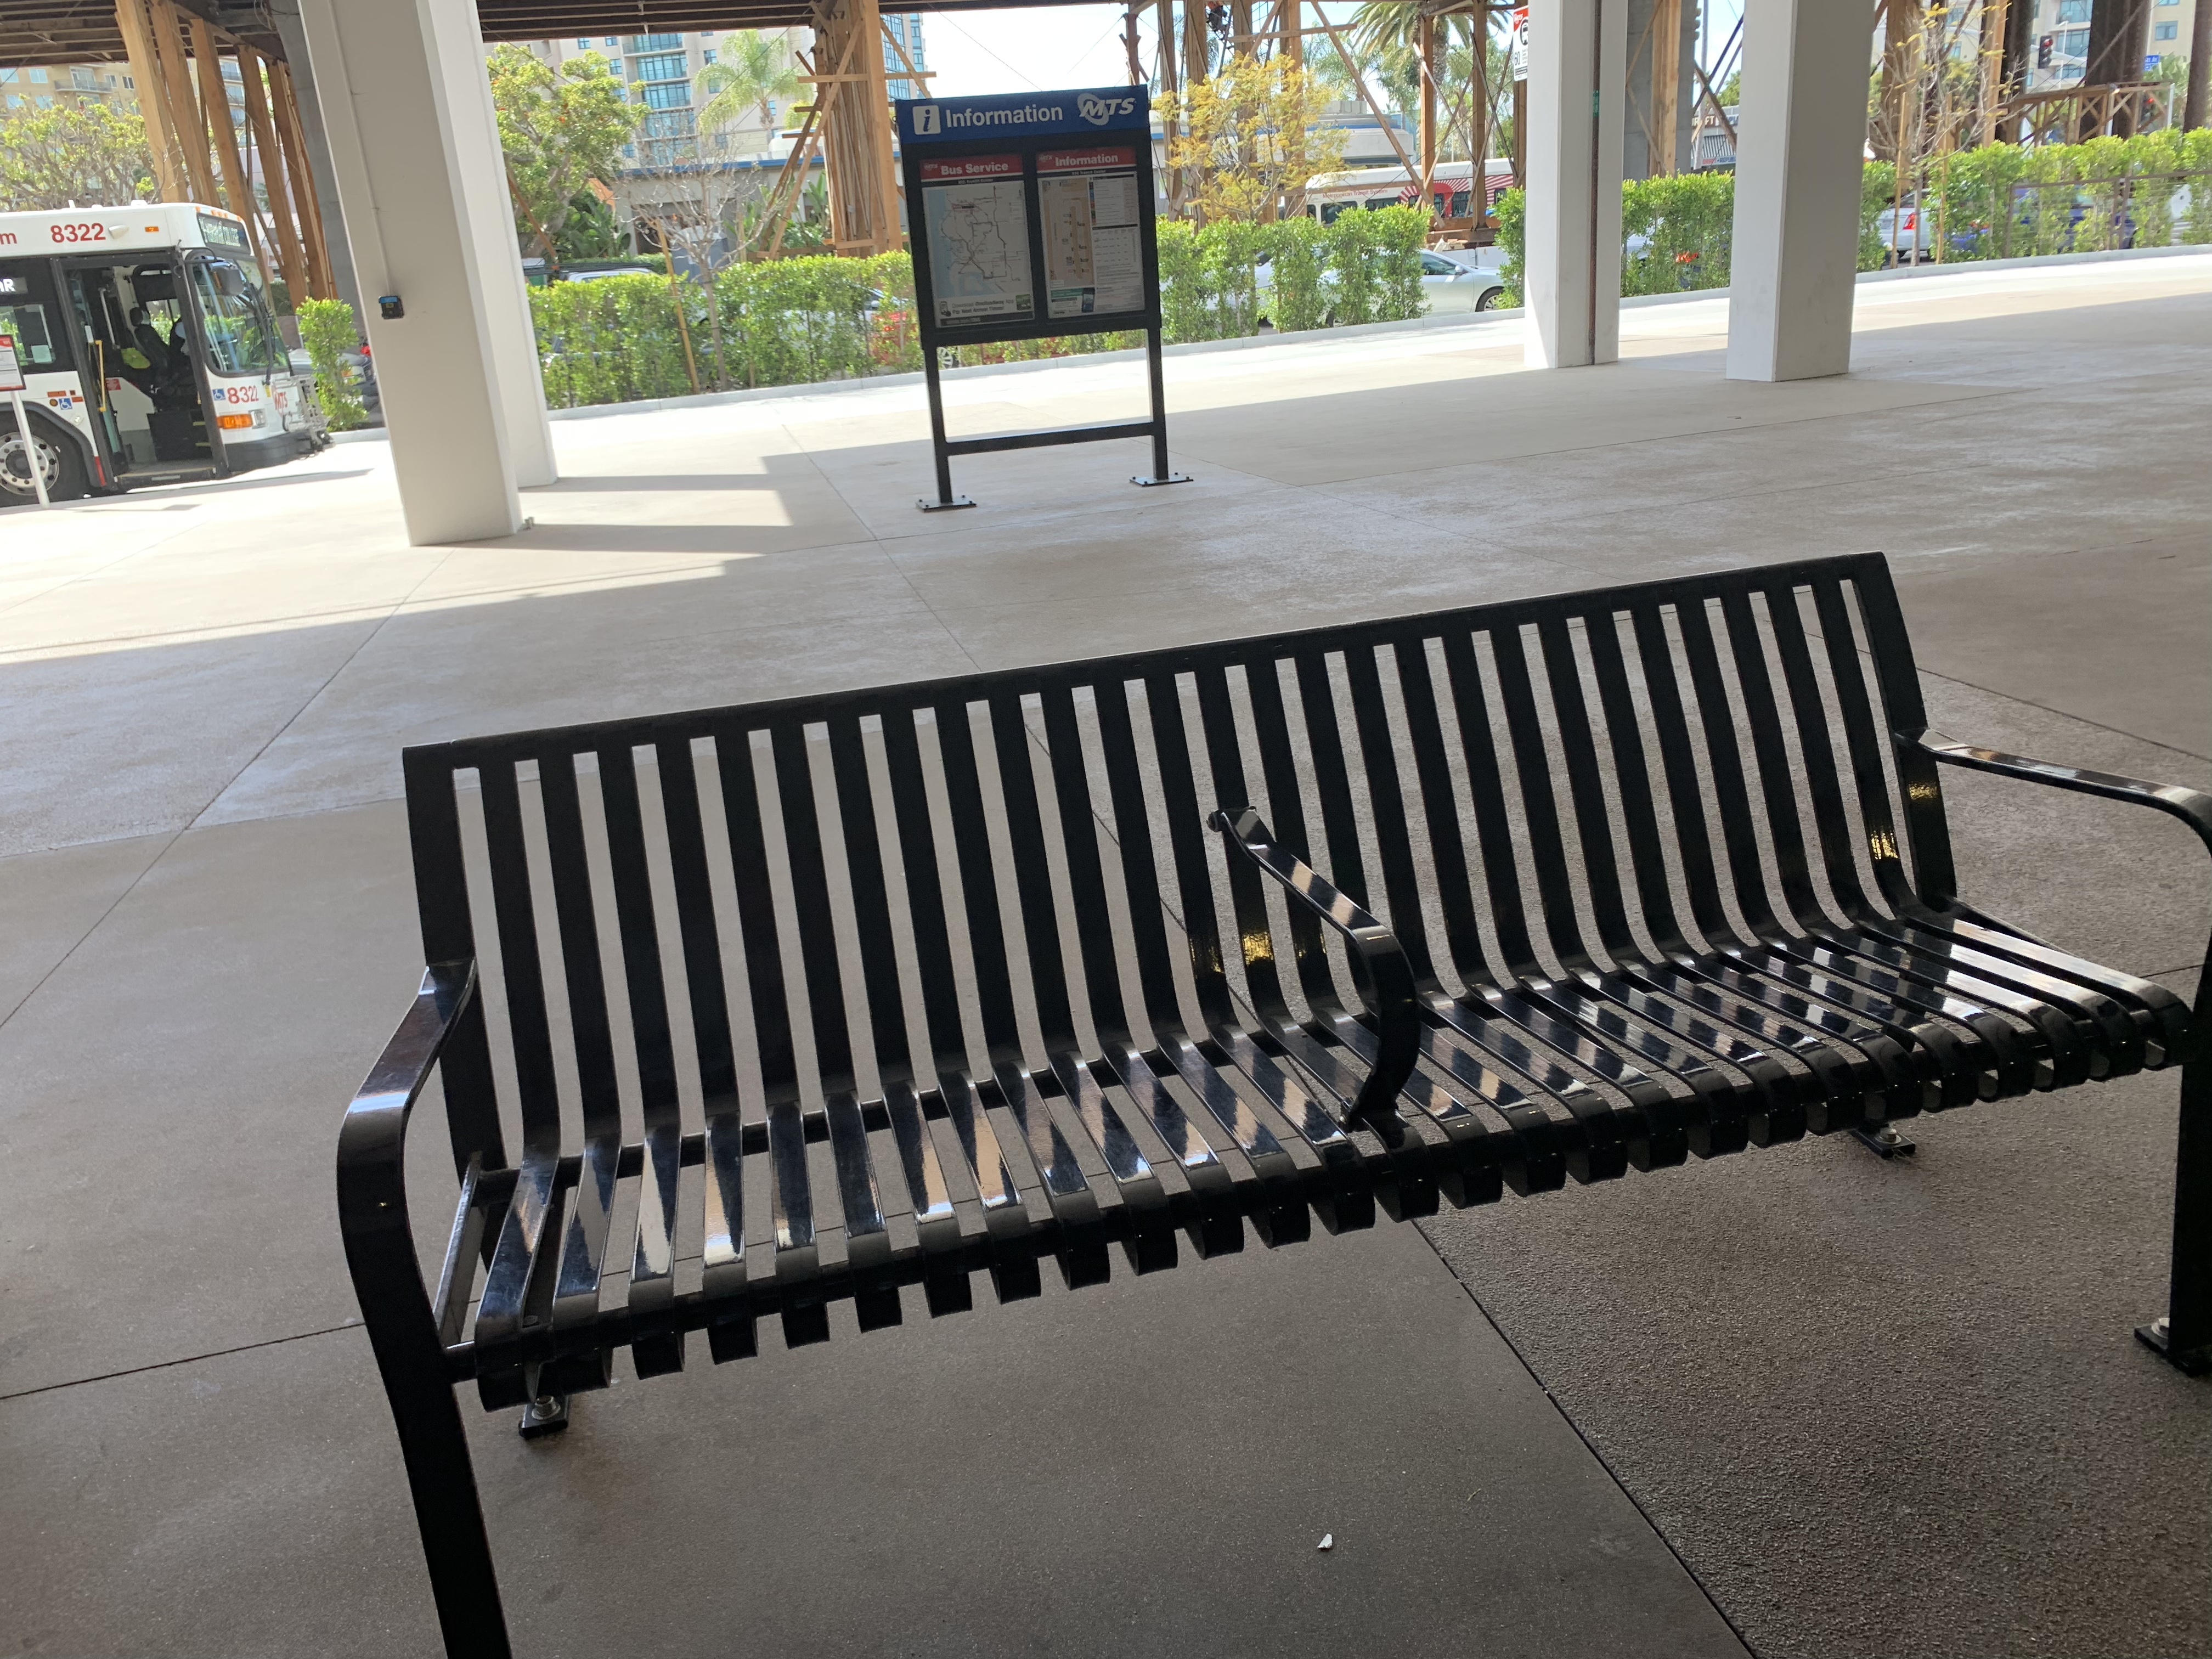Obstacle: (352, 544, 2189, 1638), (881, 85, 1221, 523), (294, 9, 535, 544)
